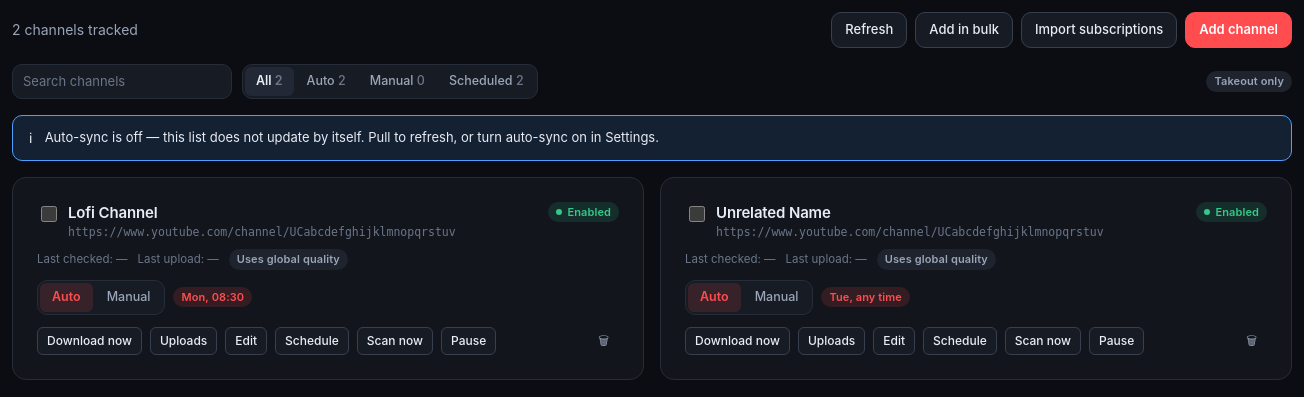
Test case: the search box applies in every view › filters the Scheduled view, which is computed client-side
The image size is (1304, 397).
Expected: the heading "Lofi Channel" is shown, [68,203,158,222]
Click the button "Scheduled 2" at (486, 81), box [438,67,535,96]
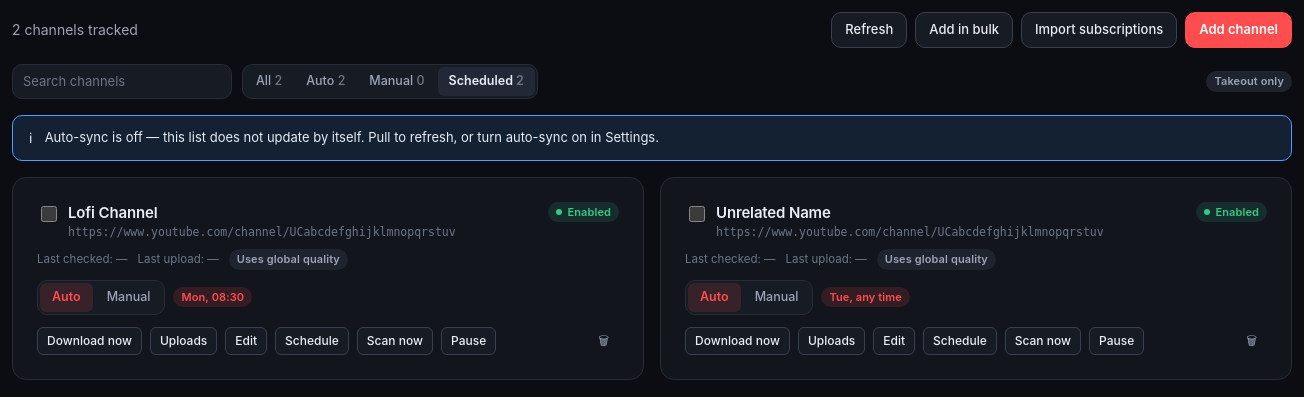
Expected: the heading "Lofi Channel" is shown, [68,203,158,222]
Type "unrelated" into the field labelled "Search channels" at (122, 81), box [12,64,232,99]
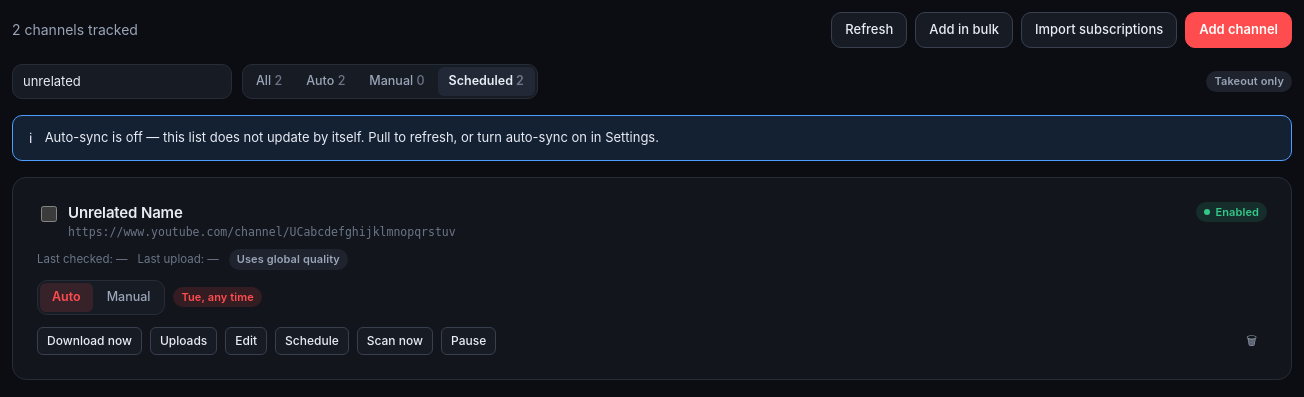
Expected: the heading "Unrelated Name" is shown, [68,203,183,222]
Now the heading "Lofi Channel" is gone
